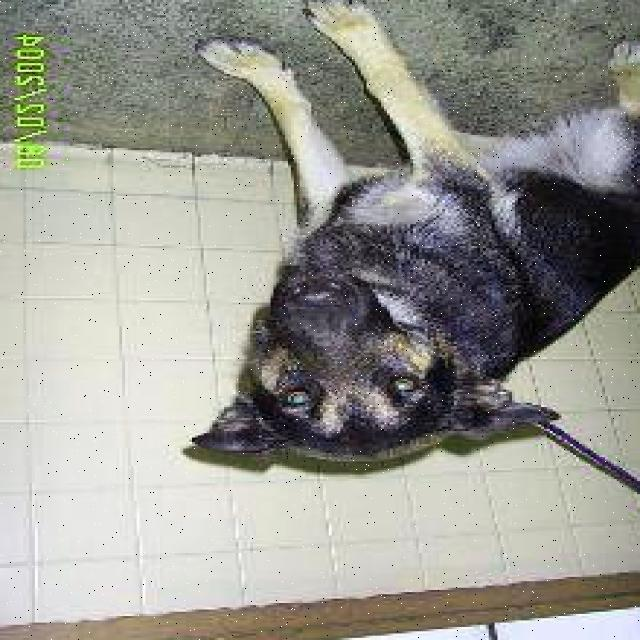Dog: (152, 256, 566, 482)
